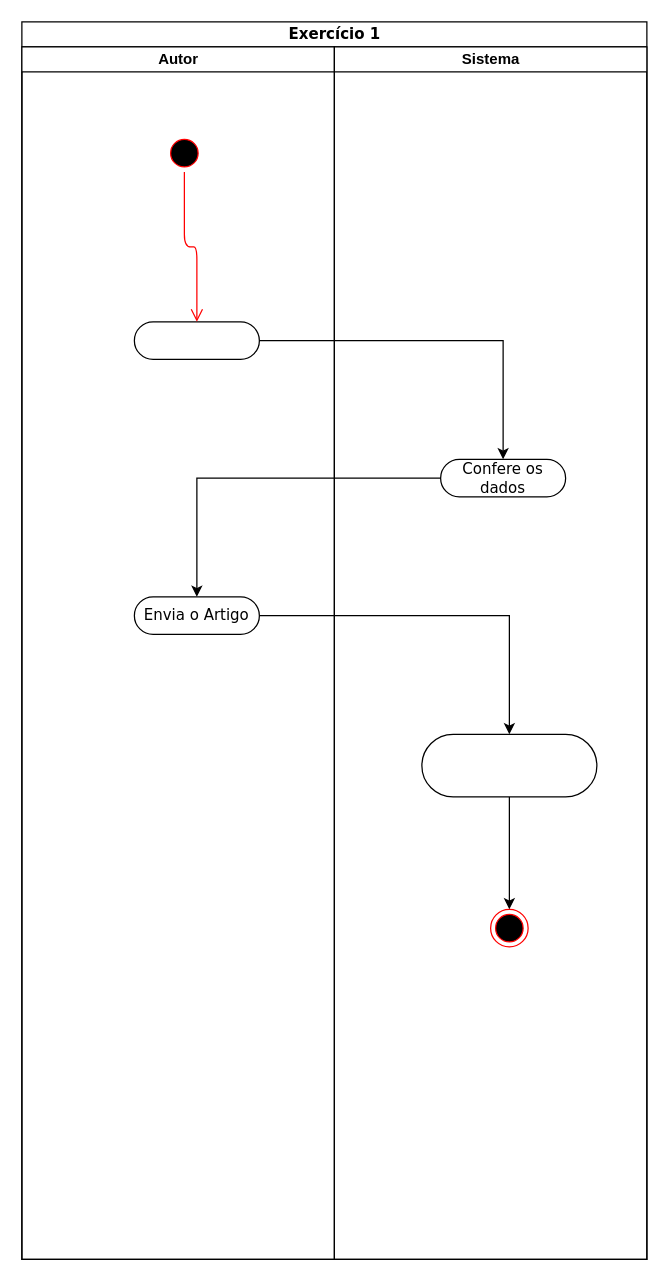
Some shapes in this 669 by 1281 pixel diagram are drawn without their labels. The centre of each missing label's shape, as x and y in pixels:
"Envia os dados do artigo" goes at (x=196, y=340).
"Gera um identificador e o exibe" goes at (x=509, y=765).
